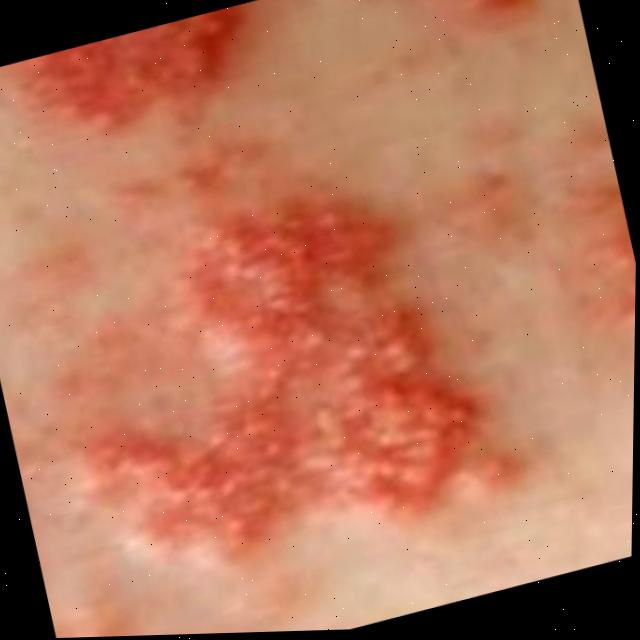Shingles: (28, 159, 524, 607), (5, 0, 273, 160), (524, 146, 638, 379), (363, 0, 563, 54)
